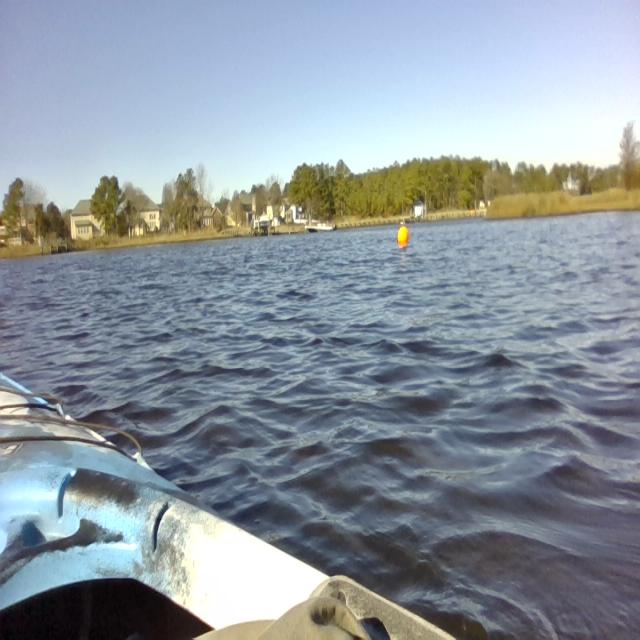Buoy: (394, 224, 412, 250)
